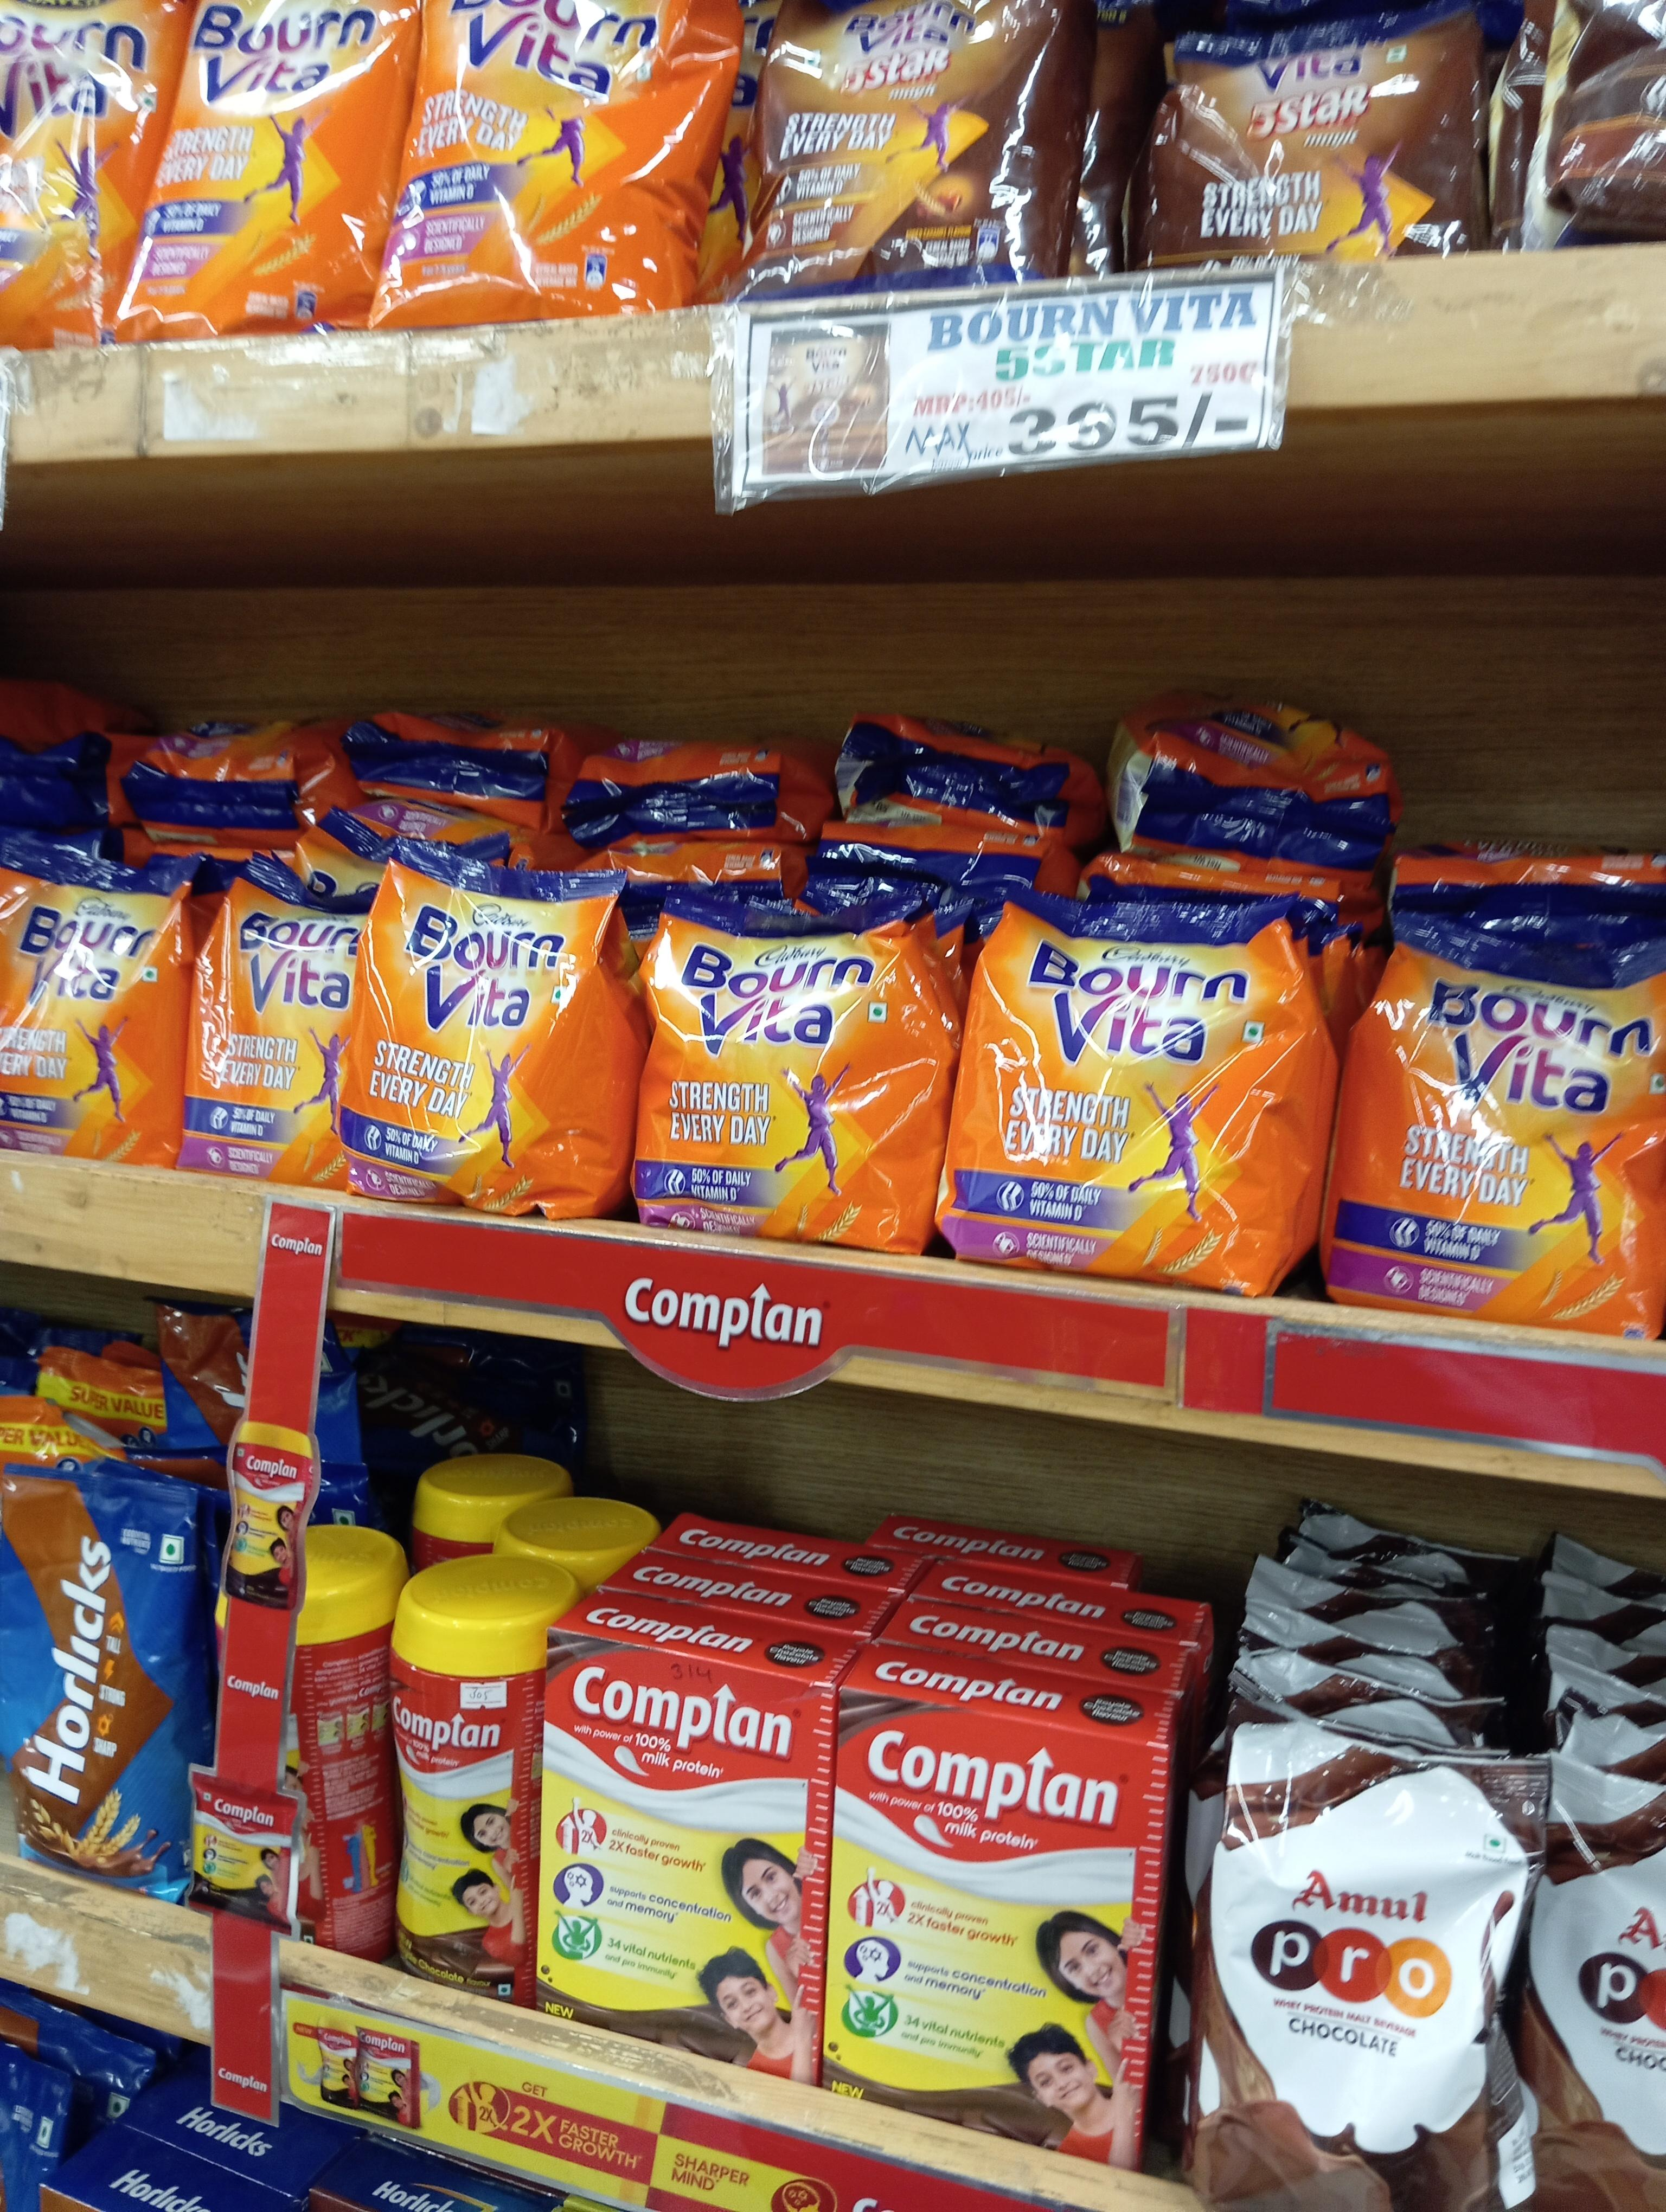BOURN_VITA_500_G_POUCH: (1337, 904, 1666, 1306), (971, 901, 1302, 1271), (644, 885, 936, 1256), (371, 832, 625, 1210), (0, 822, 179, 1166)
BOURN_VITA_FIVE_STAR_MAGIC_500_G_POUCH: (733, 0, 1081, 304), (1153, 23, 1470, 252)
COMPLAN_CHOCOLATE_500_GMS_JAR: (392, 1570, 535, 1999)
COMPLAN_CHOCOLATE_500_GMS_PACK: (831, 1677, 1145, 2158), (548, 1633, 817, 2062)
HORLICK_CHOCOLATE_750_G_POUCH: (0, 1458, 189, 1894)
